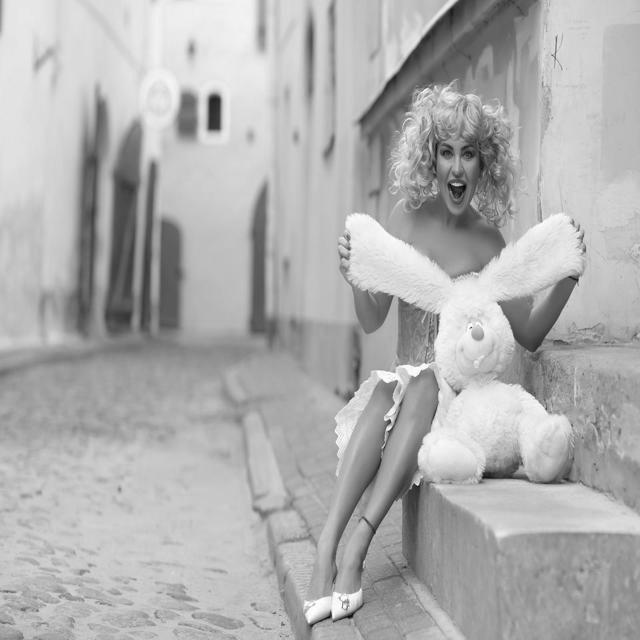Happiness: (427, 127, 488, 223)
